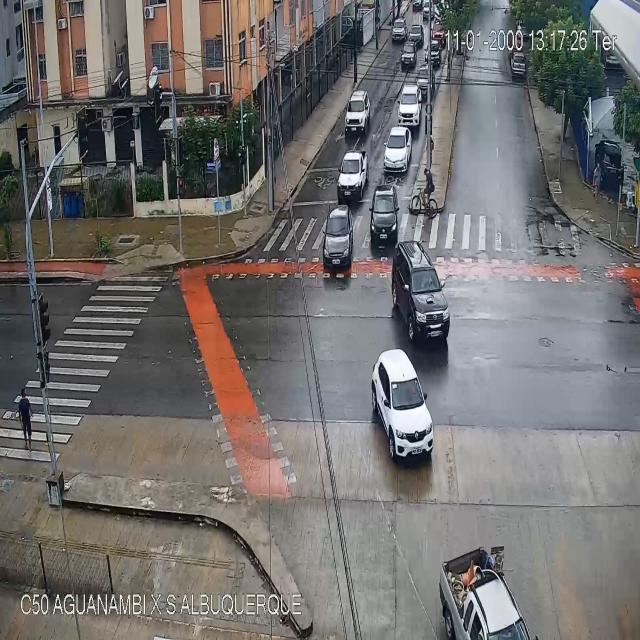Car: (440, 546, 537, 639), (372, 351, 435, 464), (394, 242, 451, 345), (322, 202, 352, 272), (369, 187, 398, 246), (337, 150, 368, 201), (384, 127, 411, 174), (346, 89, 370, 134), (398, 86, 421, 131), (417, 66, 434, 98), (432, 19, 446, 47), (402, 42, 415, 72), (425, 41, 441, 65), (512, 54, 526, 76), (392, 19, 406, 41), (409, 24, 423, 46), (423, 2, 434, 18)
